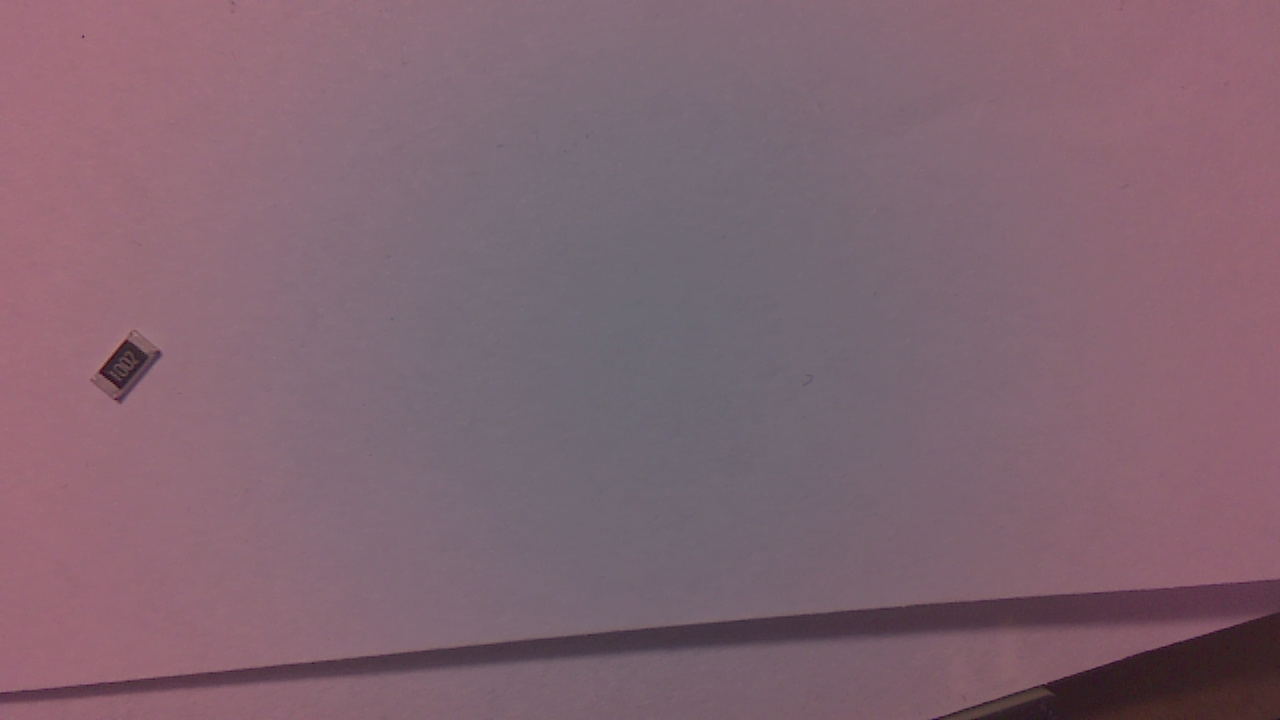Resistor: (97, 334, 169, 409)
